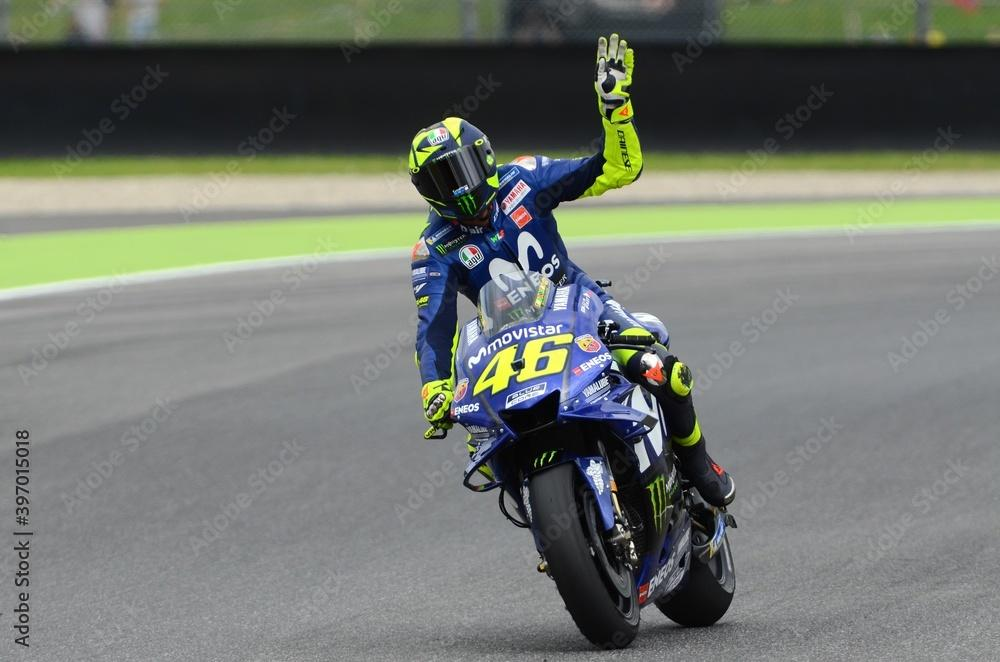helmet: (408, 116, 500, 222)
